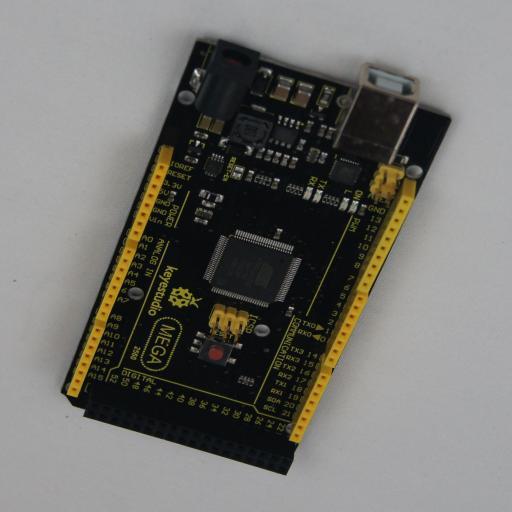Arduino Mega 2560 -Black and Yellow-: (61, 38, 451, 476)
